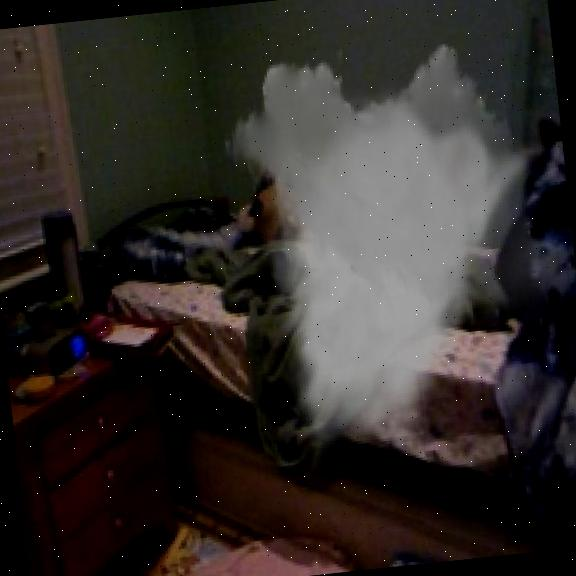smoke: (270, 63, 469, 332)
